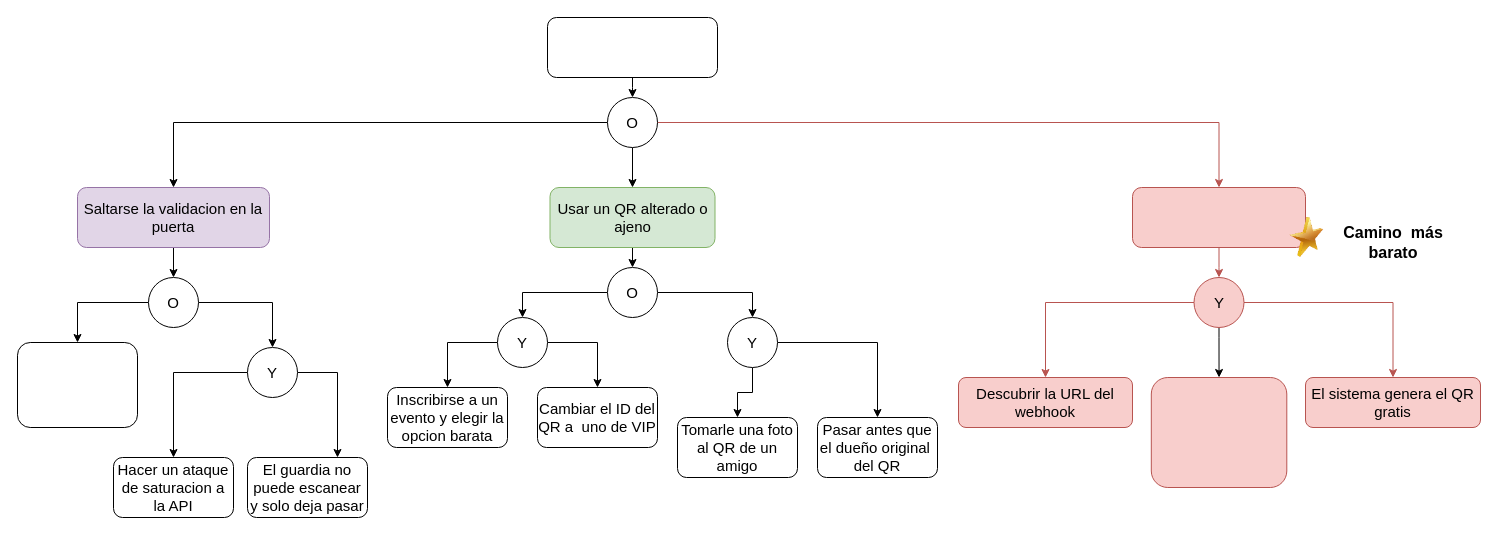
The diagram is 1498 pixels wide and 535 high, and some of its shapes have lost their labels. The centre of each missing label's shape, as x and y in pixels:
"Convencer al guardia aplicando ingenieria social" belongs at [77,385].
"Entrar a un evento sin pagar" belongs at [632,47].
"Enviar un POST falso simulando la pasarela de pagos" belongs at [1218,432].
"Falsificar el Webhook de pago" belongs at [1219,217].
